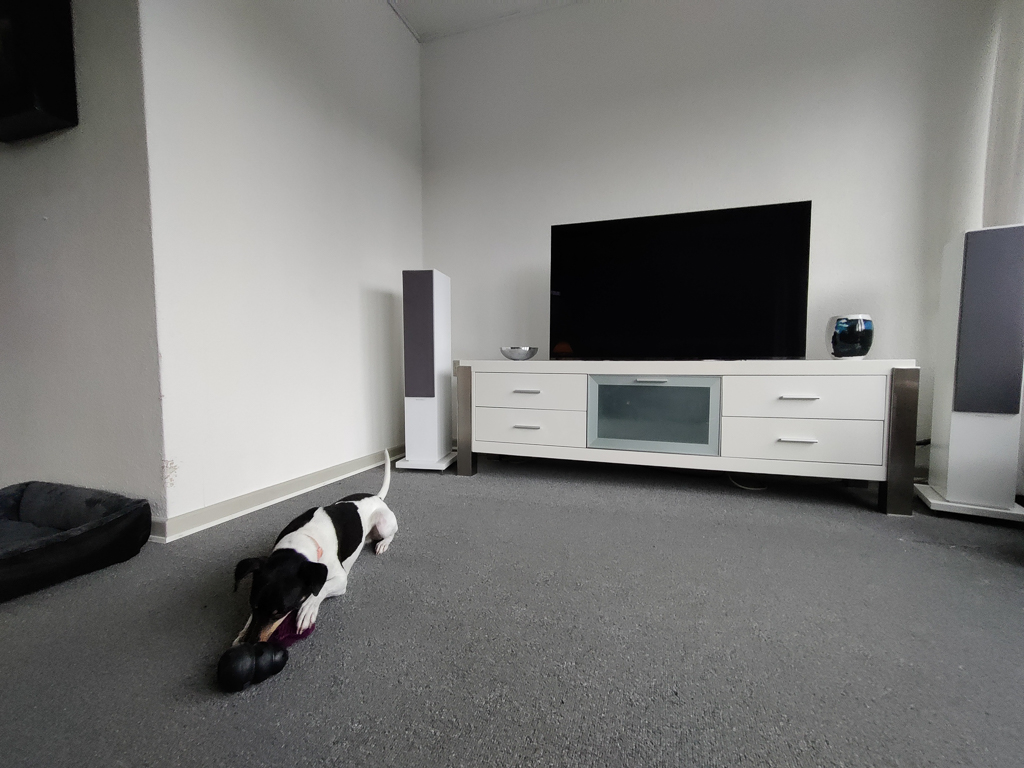Dog: (201, 433, 417, 680)
